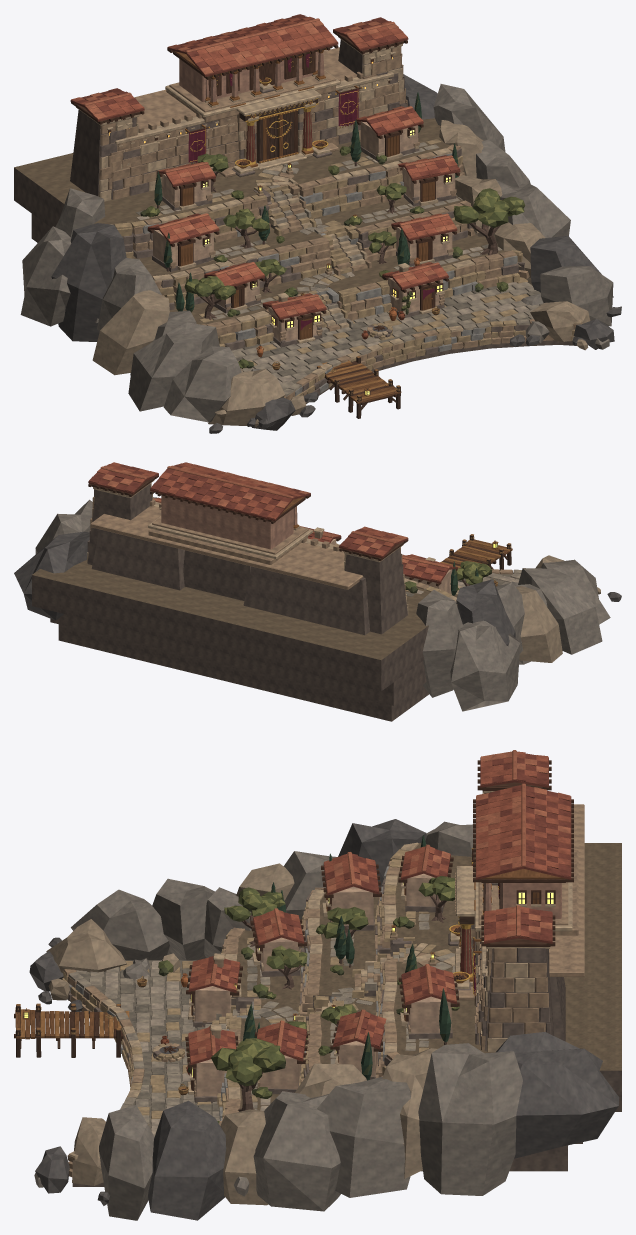
The model's file is dock.glb.
3 renders of one model, top to bottom at view 1: azimuth 30°, elevation 25°; view 2: azimuth 150°, elevation 25°; view 3: azimuth 270°, elevation 25°, orthographic. The views are drawn at different scales.
Visible parts, largest first — view 1: Ithaca | Shore and plaza, Ithaca | Buildings, Ithaca | Vegetation and props; view 2: Ithaca | Shore and plaza, Ithaca | Buildings, Ithaca | Vegetation and props; view 3: Ithaca | Shore and plaza, Ithaca | Buildings, Ithaca | Vegetation and props.
Boxes of the visible parts, left/top/right/bottom form: Ithaca | Shore and plaza: left=14, top=74, right=621, bottom=433; Ithaca | Buildings: left=70, top=14, right=460, bottom=347; Ithaca | Vegetation and props: left=140, top=92, right=525, bottom=370; Ithaca | Shore and plaza: left=14, top=497, right=621, bottom=721; Ithaca | Buildings: left=87, top=462, right=457, bottom=635; Ithaca | Vegetation and props: left=404, top=561, right=497, bottom=596; Ithaca | Shore and plaza: left=14, top=819, right=621, bottom=1220; Ithaca | Buildings: left=185, top=750, right=584, bottom=1102; Ithaca | Vegetation and props: left=136, top=835, right=459, bottom=1123.
Bounding box in the file's own units: 41.85 × 17.87 × 35.96.
Materials: 10 (8 with a texture image).
